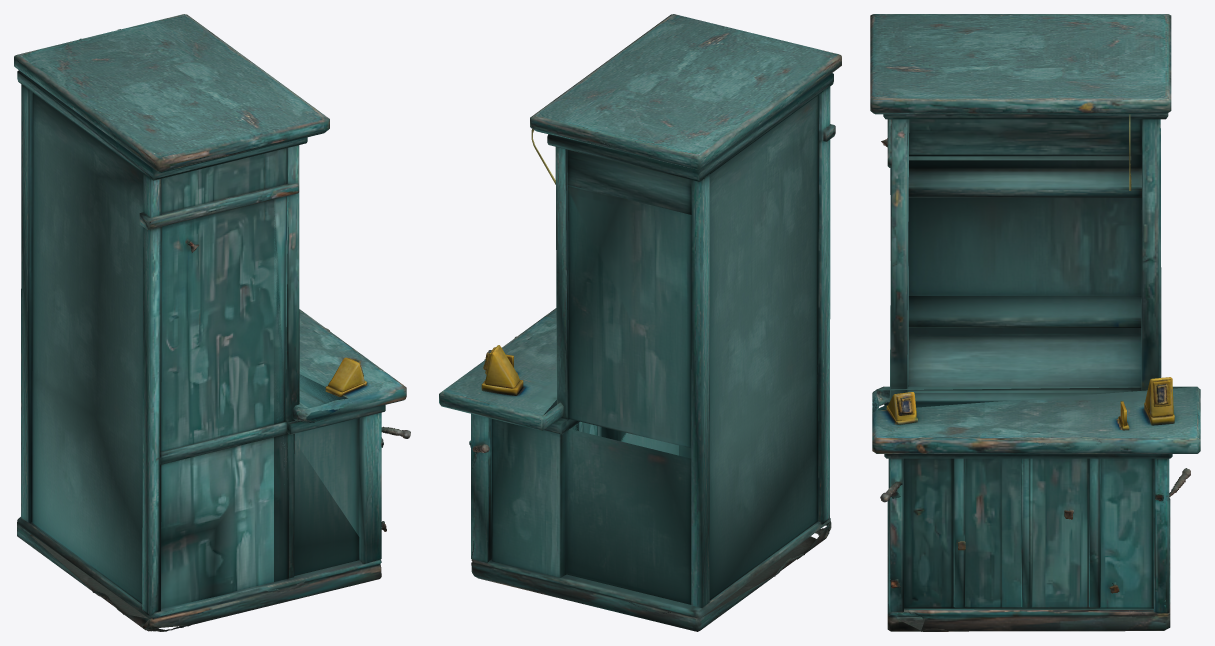
3 renders of one model, left to right at view 1: azimuth 30°, elevation 25°; view 2: azimuth 150°, elevation 25°; view 3: azimuth 270°, elevation 25°, orthographic. The views are drawn at different scales.
Visible parts, largest first — view 1: tripo_node_0c8d09be-95e3-4f80-a98c-1f1247b17ff9; view 2: tripo_node_0c8d09be-95e3-4f80-a98c-1f1247b17ff9; view 3: tripo_node_0c8d09be-95e3-4f80-a98c-1f1247b17ff9.
Part boxes in pixels (x1,y1,x2,y2): tripo_node_0c8d09be-95e3-4f80-a98c-1f1247b17ff9: [14, 14, 410, 631]; tripo_node_0c8d09be-95e3-4f80-a98c-1f1247b17ff9: [439, 14, 841, 631]; tripo_node_0c8d09be-95e3-4f80-a98c-1f1247b17ff9: [870, 14, 1200, 631].
Bounding box in the file's own units: 0.5645 × 0.998 × 0.5957.
Materials: 1 (1 with a texture image).
